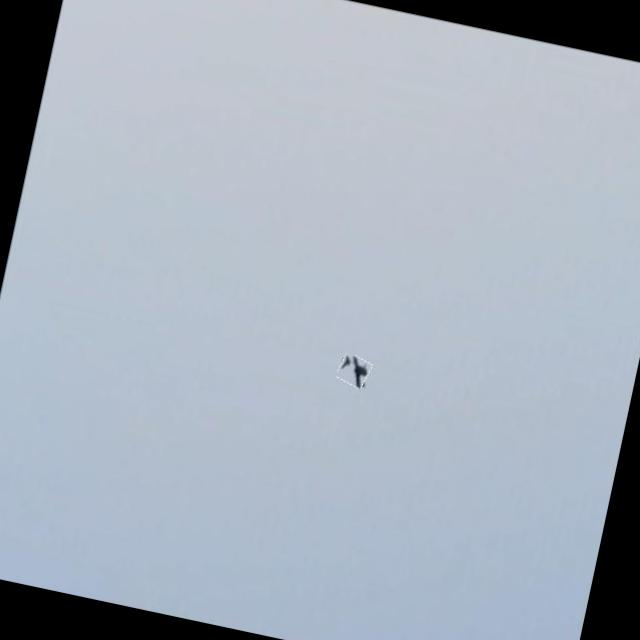UAV: (323, 304, 406, 408)
